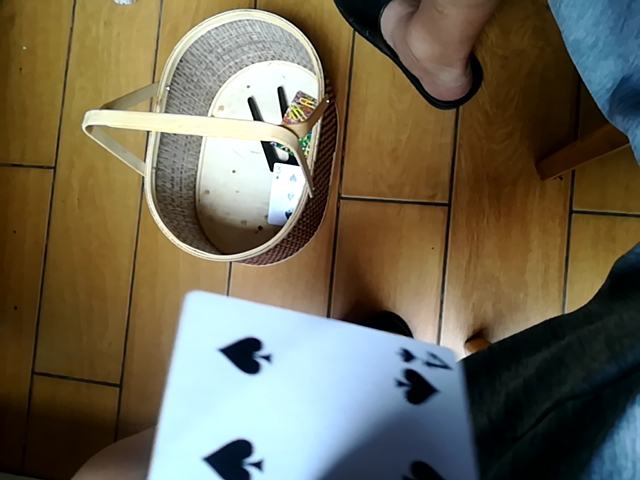ht 4: (144, 287, 473, 479)
